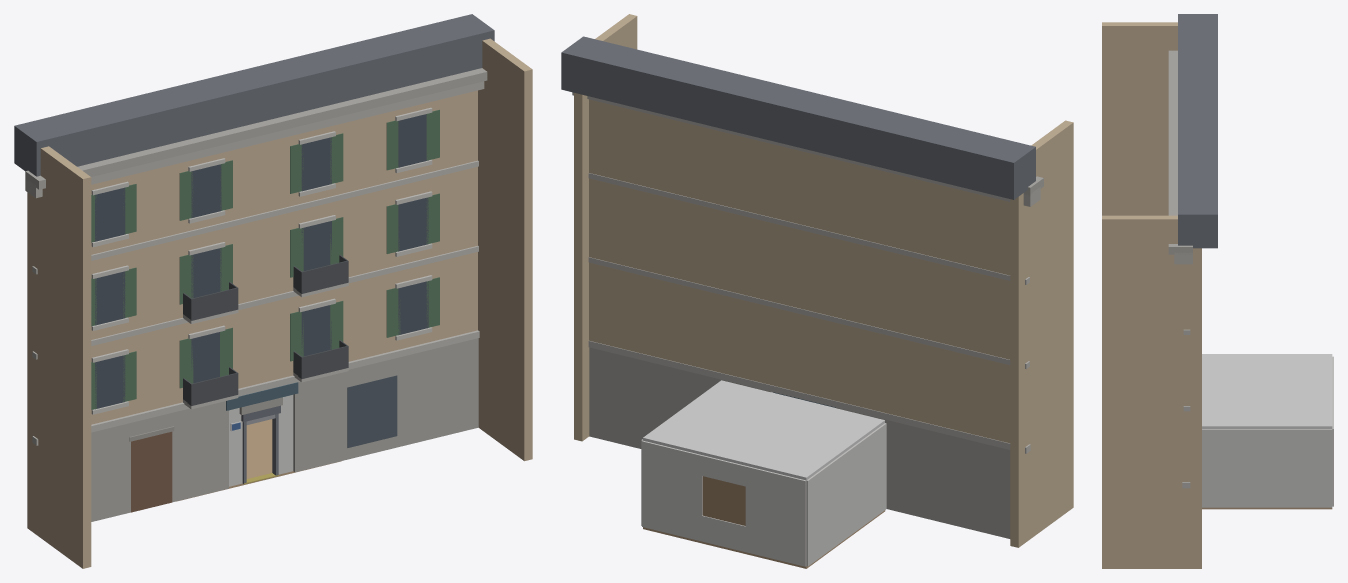
Rendered from studio_room.glb.
3 views of the same model, side by side, from view 1: azimuth 30°, elevation 25°; view 2: azimuth 150°, elevation 25°; view 3: azimuth 270°, elevation 25° (orthographic). The views are drawn at different scales.
Parts seen in each view (by area): view 1: geometry_0; view 2: geometry_0; view 3: geometry_0.
Boxes of the visible parts, left/top/right/bottom form: geometry_0: left=14, top=14, right=532, bottom=568; geometry_0: left=561, top=14, right=1073, bottom=568; geometry_0: left=1102, top=14, right=1333, bottom=568.
Bounding box in the file's own units: 16.8 × 13.85 × 8.11.
